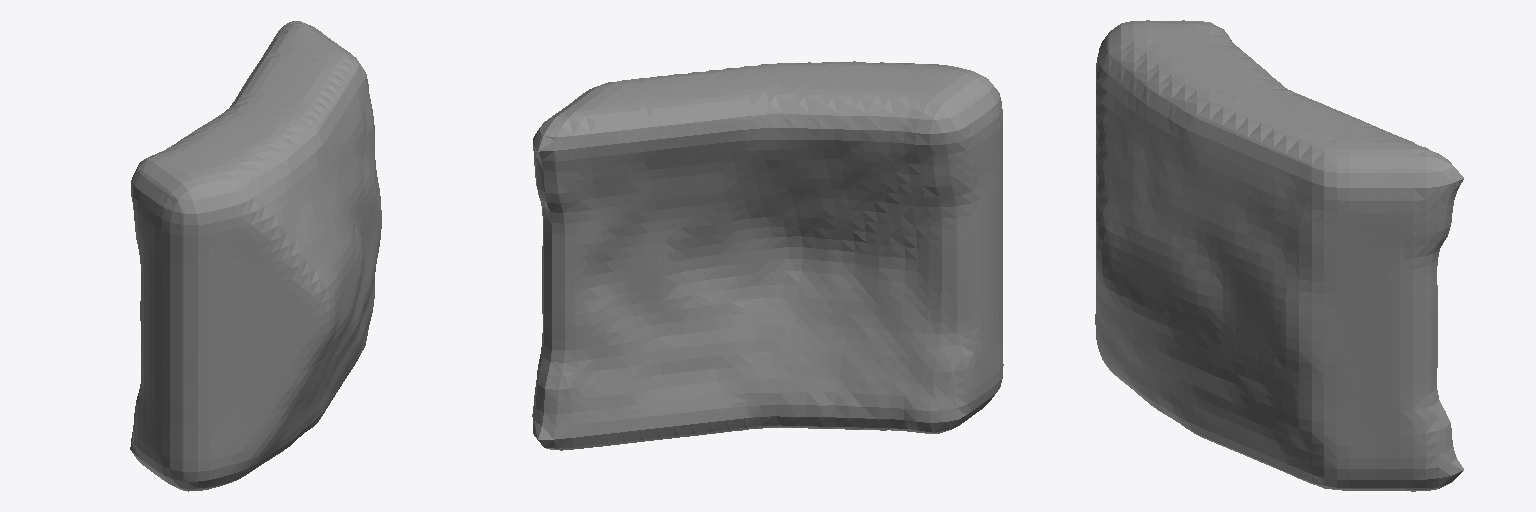
robot.urdf — cube.urdf:
<?xml version="0.0" ?> 
<robot name="cube.urdf"> 
<link name="legobrick"> 
<contact> 
<lateral_friction value="5.0"/> 
<rolling_friction value="0.0"/> 
<contact_cfm value="0.0"/> 
<contact_erp value="1.0"/> 
</contact> 
<inertial> 
<origin rpy="0 0 0" xyz="0.0 0.0 0.0"/> 
<mass value=".01"/> 
<inertia ixx="1" ixy="0" ixz="0" iyy="1" iyz="0" izz="1"/> 
</inertial> 
<visual> 
<origin rpy="1.570796 0 0" xyz="-0.028401587666371575 0.03044173075278785 -0.02584385835240499"/> 
<geometry> 
<mesh filename="S04_2.obj" scale="0.0007223269471608217 0.0007223269471608217 0.0007223269471608217"/> 
</geometry> 
<material name="yellow"> 
<color rgba="0.6 0.6 0.6 1"/> 
</material> 
</visual> 
<collision> 
<origin rpy="1.570796 0 0" xyz="-0.028401587666371575 0.03044173075278785 -0.02584385835240499"/> 
<geometry> 
<mesh filename="S04_2.obj" scale="0.0007223269471608217 0.0007223269471608217 0.0007223269471608217"/> 
</geometry> 
</collision> 
</link> 
</robot>

--- Render facts (derived) ---
Views: 3 orthographic renders of the robot side by side, from view 1: azimuth 30°, elevation 25°; view 2: azimuth 150°, elevation 25°; view 3: azimuth 270°, elevation 25°.
Model cube.urdf with 1 links and 0 joints (none), rooted at legobrick, posed every joint at zero.
Links seen in each view (by area): view 1: legobrick; view 2: legobrick; view 3: legobrick.
Boxes of the visible links, x1=… form: legobrick: x1=130, y1=21, x2=381, y2=491; legobrick: x1=532, y1=61, x2=1003, y2=450; legobrick: x1=1095, y1=20, x2=1463, y2=491.
Size in the robot's own frame: 0.056 by 0.0549 by 0.056 metres.
1 mesh visuals loaded from 1 distinct referenced files (1 OBJ).
